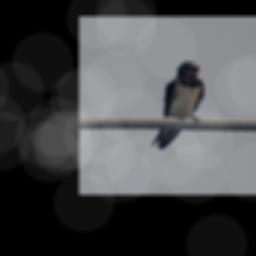Swallow: (151, 61, 205, 150)
